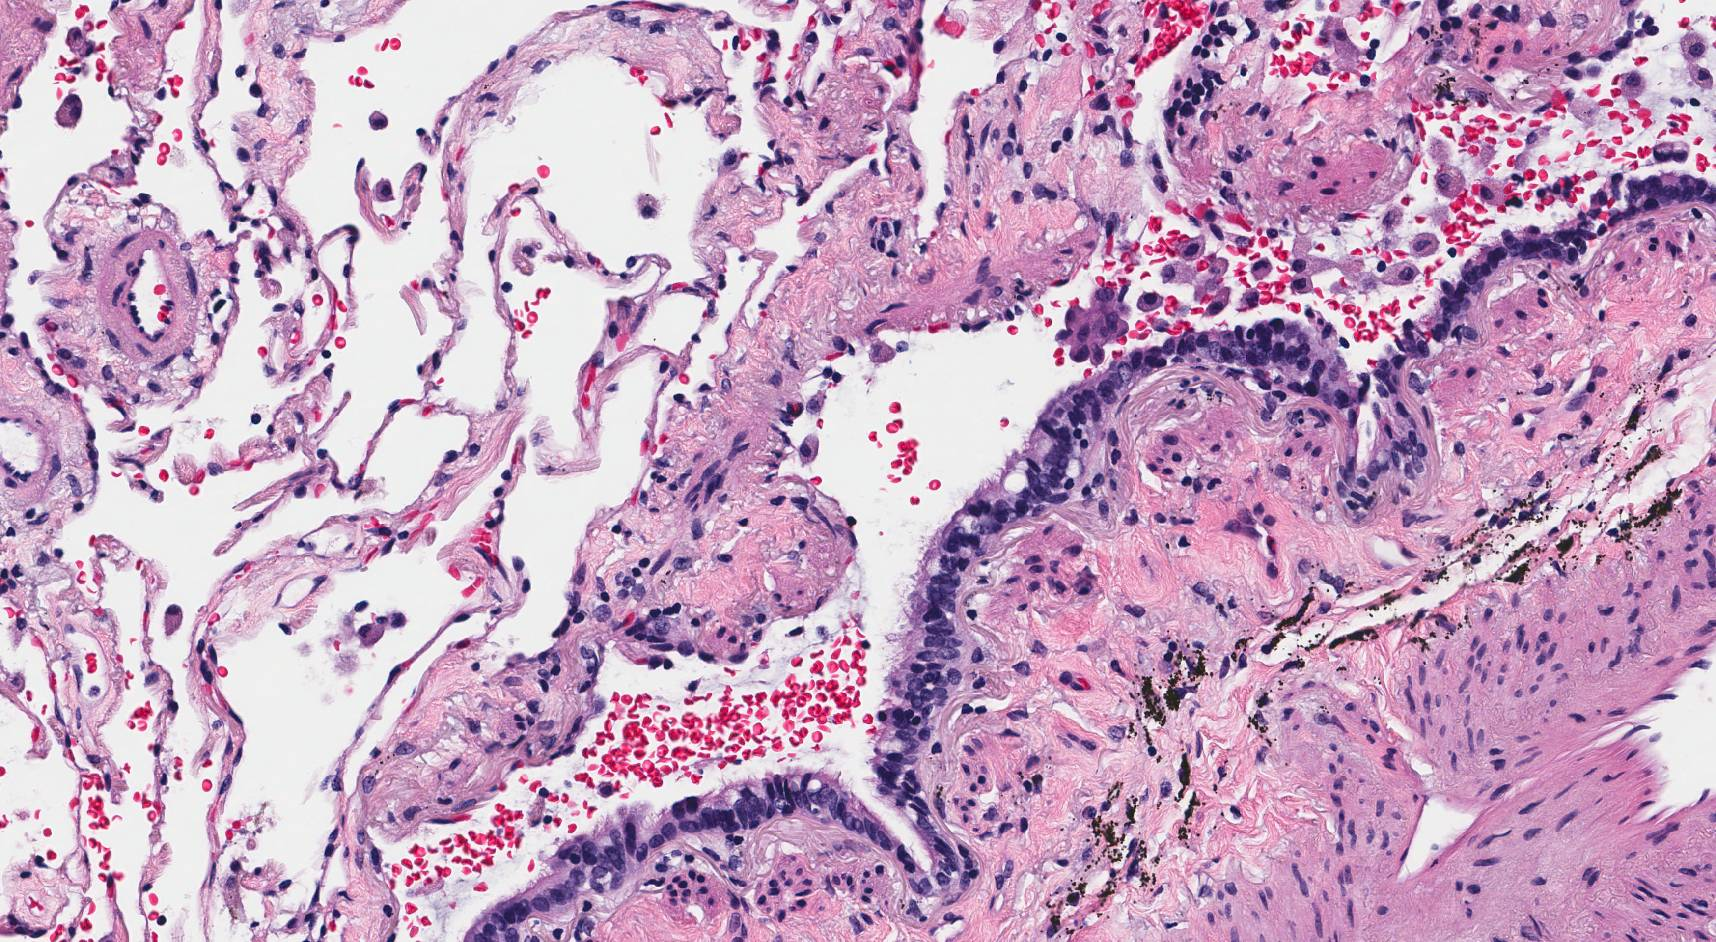stas: (1055, 285, 1131, 365)
